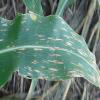Corn Gray leaf spot: (0, 13, 99, 97)
